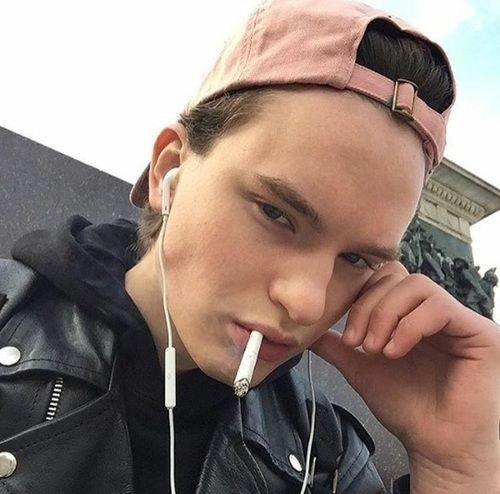cigarette: (233, 329, 265, 398)
